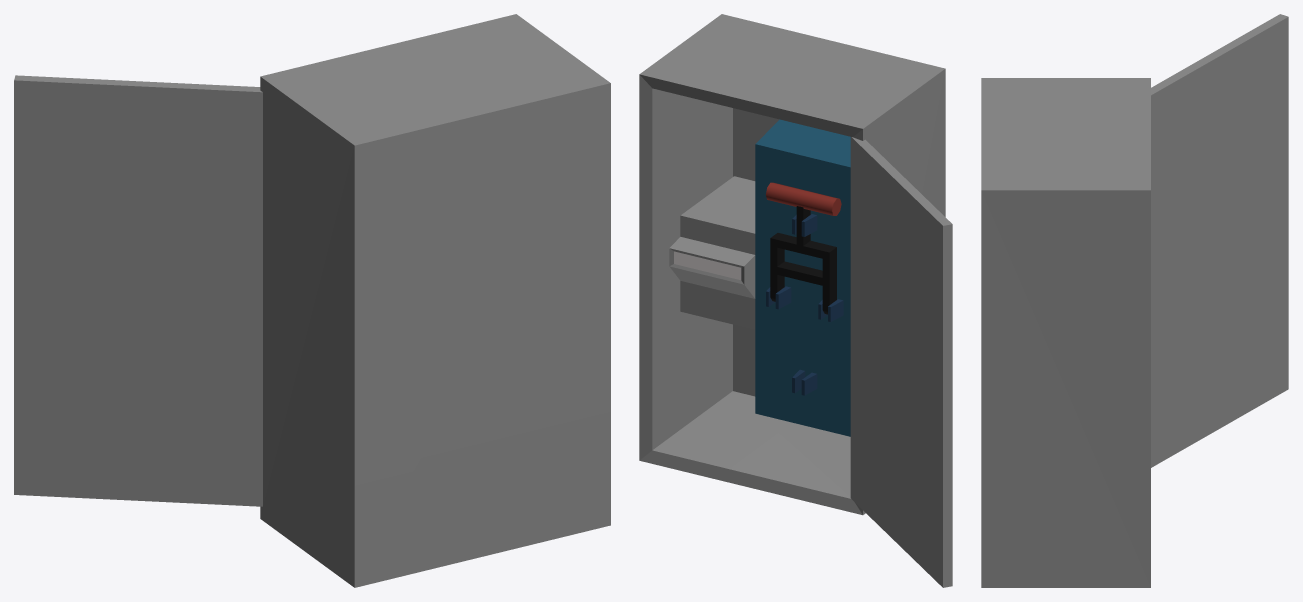
File: Kindergarten objective.fbx
The picture shows the model from 3 angles, left to right: view 1: azimuth 30°, elevation 25°; view 2: azimuth 150°, elevation 25°; view 3: azimuth 270°, elevation 25°; orthographic projection. The views are drawn at different scales.
Parts seen in each view (by area): view 1: oblective kindergarden.002, oblective kindergarden.004; view 2: oblective kindergarden.002, oblective kindergarden.004, oblective kindergarden.001, oblective kindergarden.003, oblective kindergarden; view 3: oblective kindergarden.002, oblective kindergarden.004.
Boxes of the visible parts, x1,y1,x2,y2 form: oblective kindergarden.002: [260, 14, 610, 587]; oblective kindergarden.004: [14, 75, 262, 506]; oblective kindergarden.002: [639, 14, 945, 515]; oblective kindergarden.004: [850, 137, 952, 587]; oblective kindergarden.001: [755, 119, 850, 436]; oblective kindergarden.003: [669, 176, 755, 329]; oblective kindergarden: [765, 182, 841, 314]; oblective kindergarden.002: [981, 78, 1150, 587]; oblective kindergarden.004: [1151, 14, 1288, 467].
Bounding box in the file's own units: 336 × 330 × 231.
Materials: 1 (1 with a texture image).
